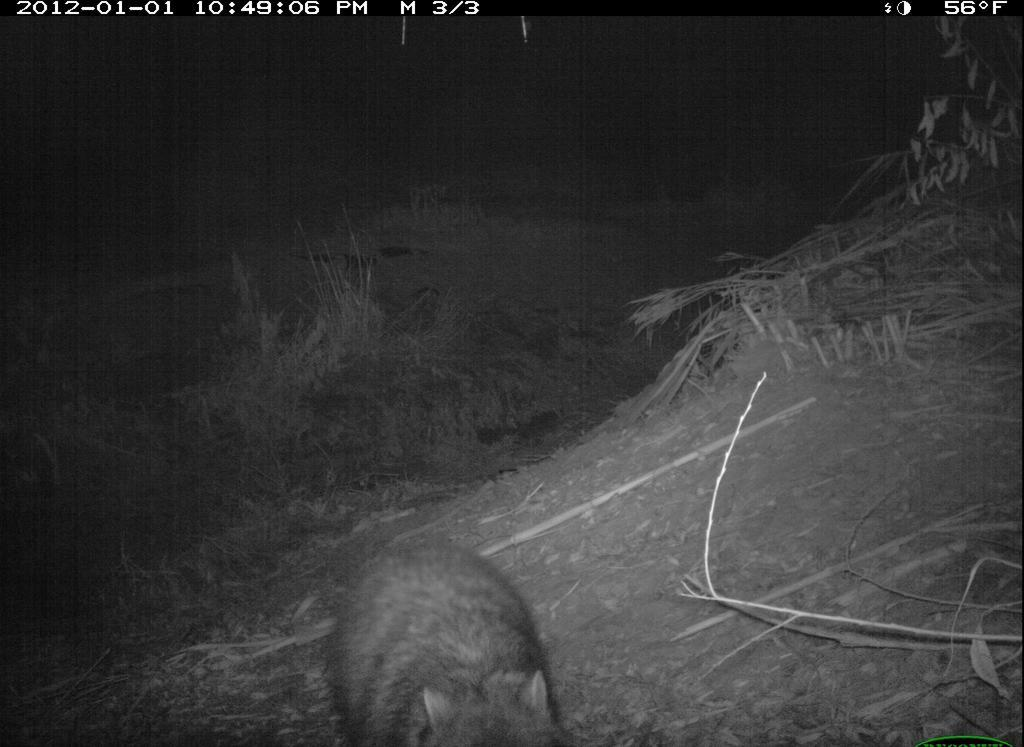raccoon: (317, 532, 583, 747)
